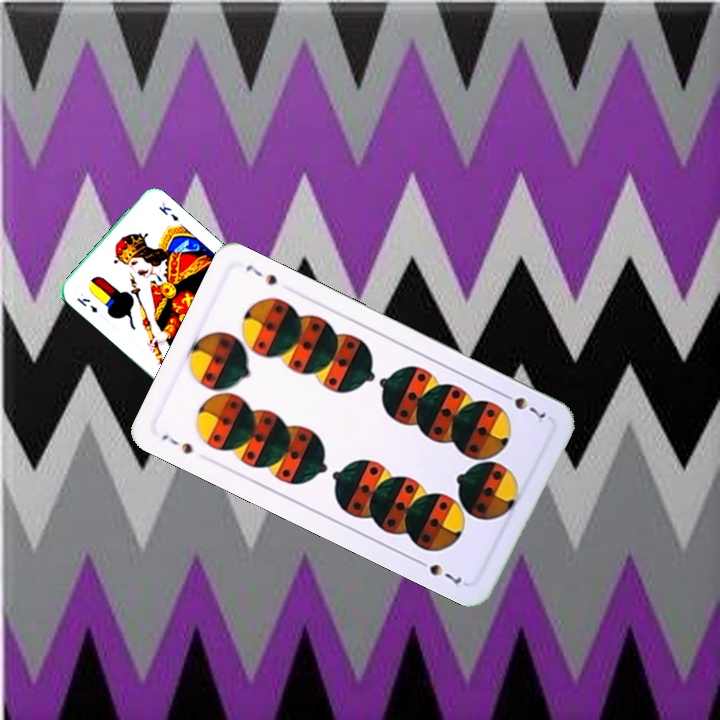EK: (73, 294, 100, 315)
S7: (497, 388, 548, 421), (157, 430, 195, 457)
